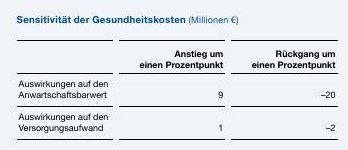table: (0, 0, 348, 150)
